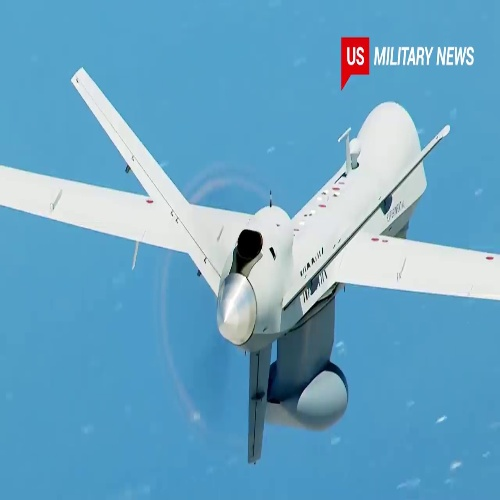uav: (1, 71, 500, 455)
